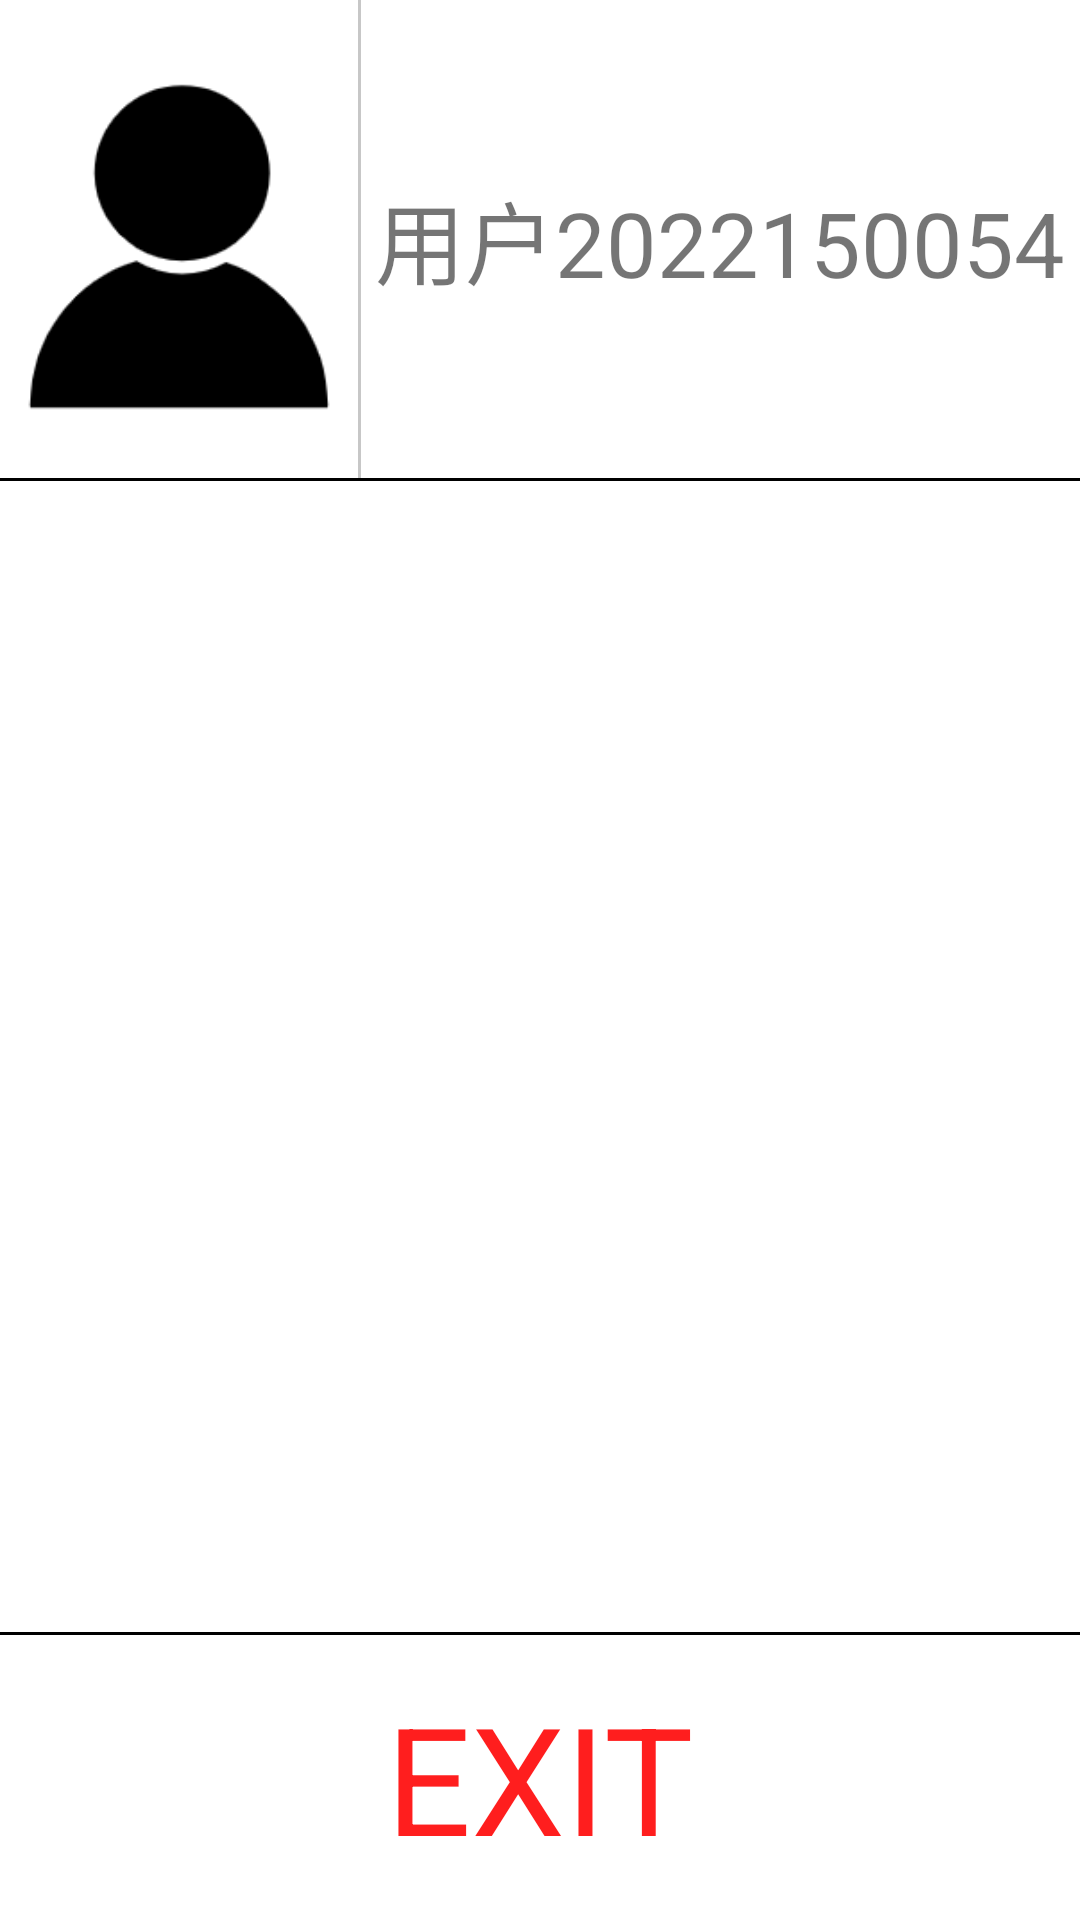

Icons on this 1080x1920 Android screen, each with its box as (x1, y1, x2, y2):
people shape: (28, 84, 329, 409)
